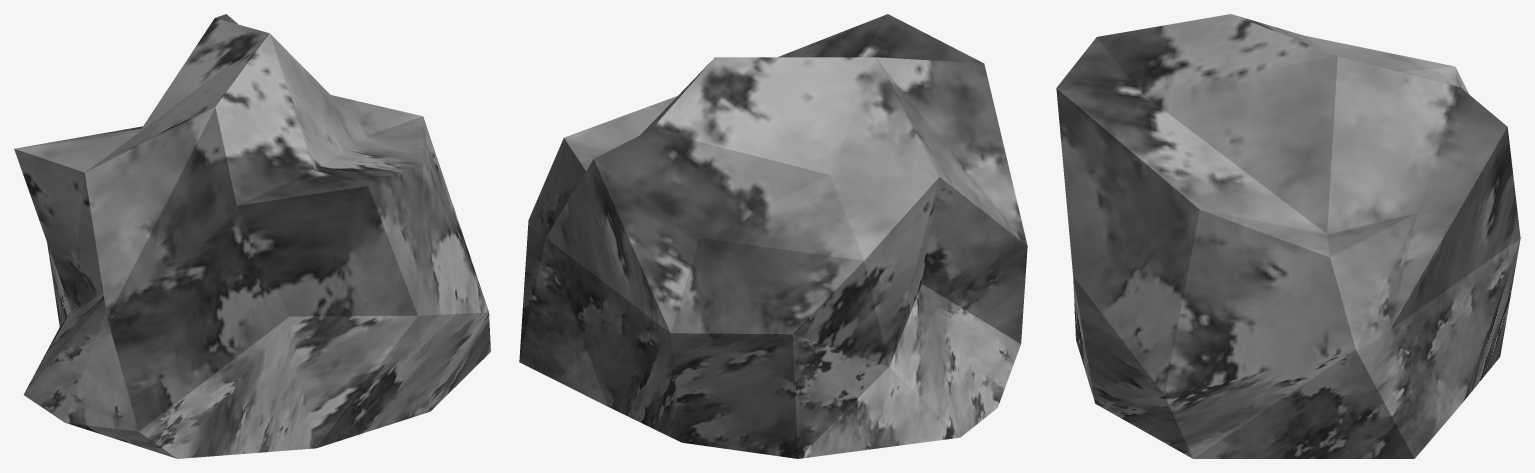
Rendered from RockV1.fbx.
The picture shows the model from 3 angles, left to right: view 1: azimuth 30°, elevation 25°; view 2: azimuth 150°, elevation 25°; view 3: azimuth 270°, elevation 25°; orthographic projection. The views are drawn at different scales.
Visible parts, largest first — view 1: Icosphere; view 2: Icosphere; view 3: Icosphere.
Boxes of the visible parts, x1,y1,x2,y2 form: Icosphere: (14,14,490,458); Icosphere: (519,14,1027,458); Icosphere: (1056,14,1520,458).
Size of the model in its own units: 196 by 138 by 180.
1 material, 1 textured.
